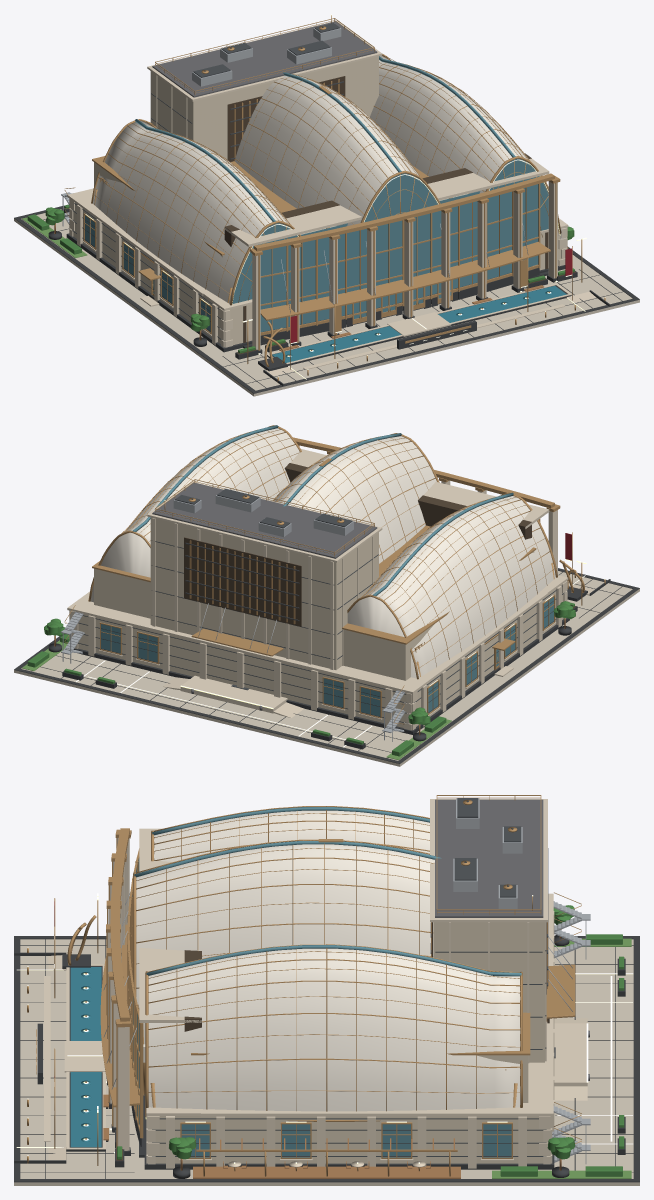
Rendered from opera_house.glb.
3 views of the same model, one above another, from view 1: azimuth 30°, elevation 25°; view 2: azimuth 150°, elevation 25°; view 3: azimuth 270°, elevation 25° (orthographic). The views are drawn at different scales.
Parts seen in each view (by area): view 1: Merged_OperaShell, Merged_OperaBronze, Merged_OperaGlass, Merged_VillaLimestone, opera_lot, Merged_OperaStone, Merged_OperaGranite, Merged_RoofDark, Merged_OperaWater, Merged_OperaInterior, Merged_WindowFrame, Merged_PropsMetal (+2 smaller); view 2: Merged_OperaShell, Merged_OperaStone, Merged_VillaLimestone, Merged_OperaBronze, opera_lot, Merged_OperaInterior, Merged_OperaGranite, Merged_RoofDark, Merged_OperaGlass, Merged_WindowFrame, Merged_PropsMetal, Merged_VillaHedge (+2 smaller); view 3: Merged_OperaShell, Merged_OperaBronze, opera_lot, Merged_VillaLimestone, Merged_OperaStone, Merged_OperaGranite, Merged_RoofDark, Merged_OperaGlass, Merged_OperaWater, Merged_OperaWood, Merged_WindowFrame, Merged_PropsMetal (+3 smaller).
Boxes of the visible parts, bbox=[...] form: Merged_OperaShell: bbox=[93, 55, 565, 303]; Merged_OperaBronze: bbox=[64, 15, 605, 382]; Merged_OperaGlass: bbox=[85, 56, 548, 332]; Merged_VillaLimestone: bbox=[67, 20, 595, 375]; opera_lot: bbox=[14, 209, 639, 396]; Merged_OperaStone: bbox=[73, 56, 565, 345]; Merged_OperaGranite: bbox=[14, 204, 639, 393]; Merged_RoofDark: bbox=[152, 21, 377, 97]; Merged_OperaWater: bbox=[272, 286, 566, 362]; Merged_OperaInterior: bbox=[224, 76, 548, 342]; Merged_WindowFrame: bbox=[71, 23, 343, 340]; Merged_PropsMetal: bbox=[61, 28, 528, 313]; Merged_OperaShell: bbox=[90, 428, 555, 678]; Merged_OperaStone: bbox=[78, 517, 563, 727]; Merged_VillaLimestone: bbox=[67, 445, 593, 730]; Merged_OperaBronze: bbox=[64, 425, 605, 724]; opera_lot: bbox=[14, 571, 639, 766]; Merged_OperaInterior: bbox=[184, 463, 531, 656]; Merged_OperaGranite: bbox=[14, 568, 639, 763]; Merged_RoofDark: bbox=[152, 482, 377, 710]; Merged_OperaGlass: bbox=[101, 425, 553, 716]; Merged_WindowFrame: bbox=[78, 488, 565, 723]; Merged_PropsMetal: bbox=[61, 495, 405, 741]; Merged_VillaHedge: bbox=[27, 601, 575, 756]; Merged_OperaShell: bbox=[136, 810, 520, 1128]; Merged_OperaBronze: bbox=[27, 795, 581, 1176]; opera_lot: bbox=[14, 939, 639, 1185]; Merged_VillaLimestone: bbox=[44, 799, 587, 1168]; Merged_OperaStone: bbox=[148, 922, 550, 1163]; Merged_OperaGranite: bbox=[14, 935, 639, 1182]; Merged_RoofDark: bbox=[435, 799, 589, 1080]; Merged_OperaGlass: bbox=[132, 807, 521, 1157]; Merged_OperaWater: bbox=[70, 967, 101, 1147]; Merged_OperaWood: bbox=[103, 929, 561, 1178]; Merged_WindowFrame: bbox=[152, 798, 555, 1156]; Merged_PropsMetal: bbox=[103, 798, 590, 1163].
Size of the model in its own units: 52 by 22 by 56.
